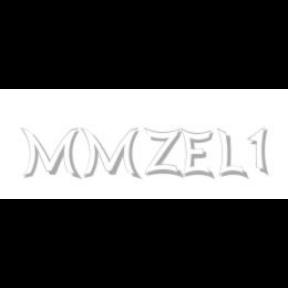1: (247, 128, 269, 176)
E: (180, 128, 214, 180)
L: (218, 128, 246, 180)
M: (80, 128, 140, 180), (20, 128, 79, 180)
Z: (144, 128, 181, 178)
